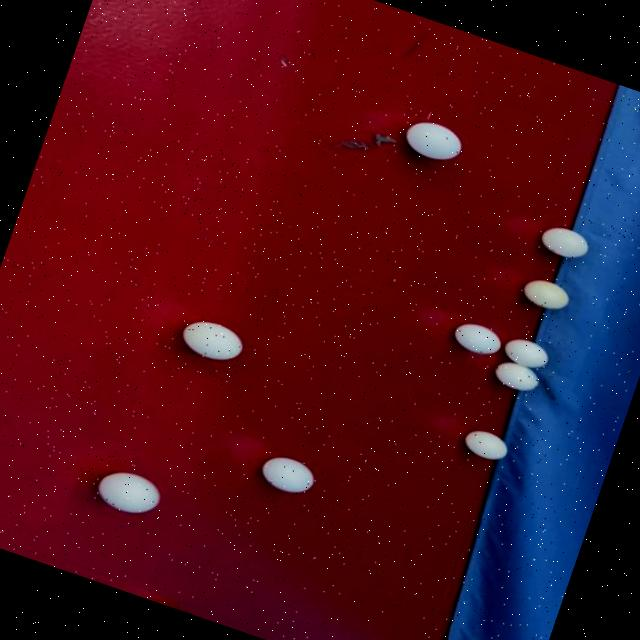ping-pong-ball: (80, 457, 180, 529), (392, 109, 478, 174), (172, 310, 255, 371), (248, 448, 329, 508), (507, 264, 584, 324), (530, 217, 605, 271), (448, 420, 520, 476), (443, 316, 511, 368), (496, 330, 558, 376), (486, 356, 544, 402)
